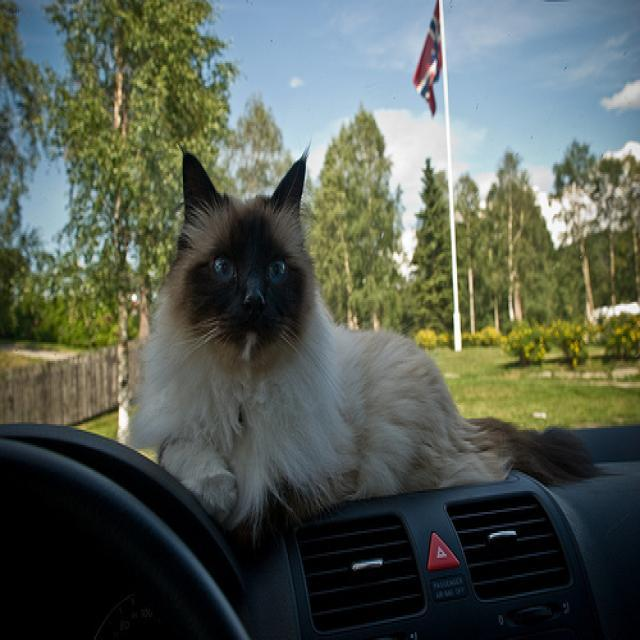Birman: (177, 149, 305, 357)
